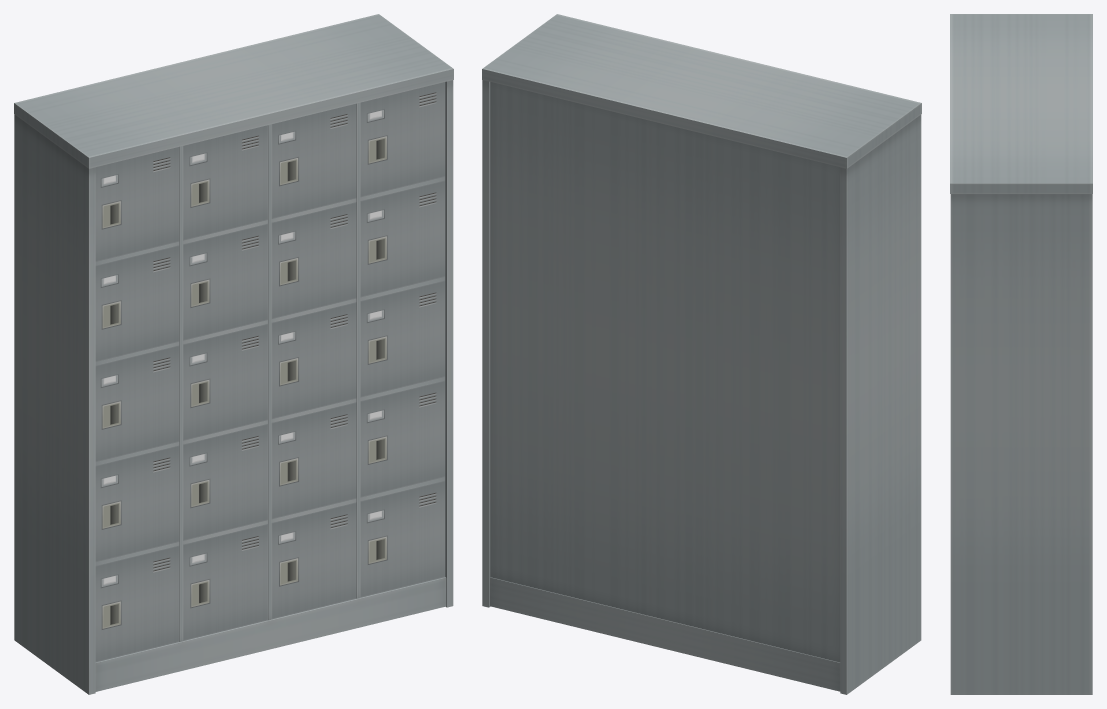
Rendered from set_shoecupboard_a_03.fbx.
3 renders of one model, left to right at view 1: azimuth 30°, elevation 25°; view 2: azimuth 150°, elevation 25°; view 3: azimuth 270°, elevation 25°, orthographic. The views are drawn at different scales.
Visible parts, largest first — view 1: shoecupboard_a_03, door_a_03_17, door_a_03_13, door_a_03_14, door_a_03_15, door_a_03_18, door_a_03_19, door_a_03_20, door_a_03_12, door_a_03_07, door_a_03_09, door_a_03_02 (+9 smaller); view 2: shoecupboard_a_03; view 3: shoecupboard_a_03.
Boxes of the visible parts, x1=… form: shoecupboard_a_03: x1=14, y1=14, x2=453, y2=694; door_a_03_17: x1=360, y1=180, x2=445, y2=297; door_a_03_13: x1=271, y1=302, x2=356, y2=418; door_a_03_14: x1=271, y1=402, x2=356, y2=519; door_a_03_15: x1=271, y1=502, x2=356, y2=619; door_a_03_18: x1=360, y1=280, x2=445, y2=397; door_a_03_19: x1=360, y1=380, x2=445, y2=497; door_a_03_20: x1=360, y1=481, x2=445, y2=597; door_a_03_12: x1=271, y1=202, x2=356, y2=318; door_a_03_07: x1=183, y1=223, x2=267, y2=340; door_a_03_09: x1=183, y1=424, x2=267, y2=540; door_a_03_02: x1=95, y1=245, x2=179, y2=361; shoecupboard_a_03: x1=482, y1=14, x2=921, y2=694; shoecupboard_a_03: x1=950, y1=14, x2=1092, y2=694.
Size of the model in its own units: 105 by 148 by 37.38.
